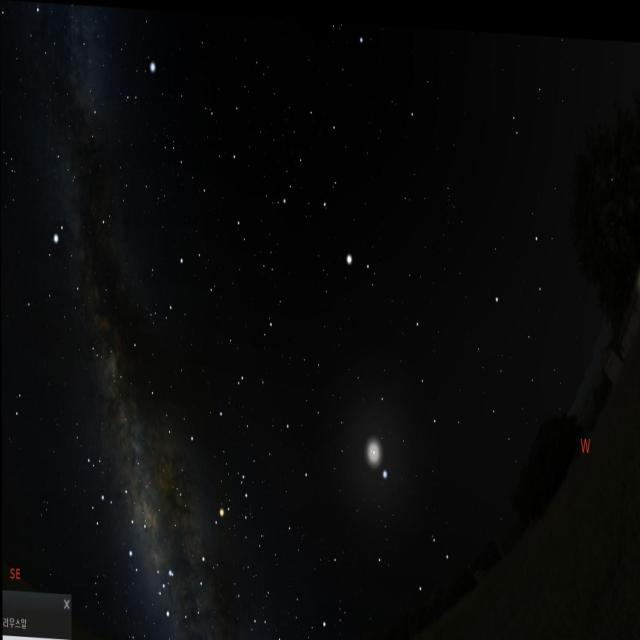aquila: (24, 156, 111, 319)
bootes: (288, 96, 386, 304)
lyra: (119, 47, 161, 106)
moon: (346, 416, 394, 487)
sagittarius: (74, 458, 151, 575)
scorpius: (153, 461, 249, 630)
